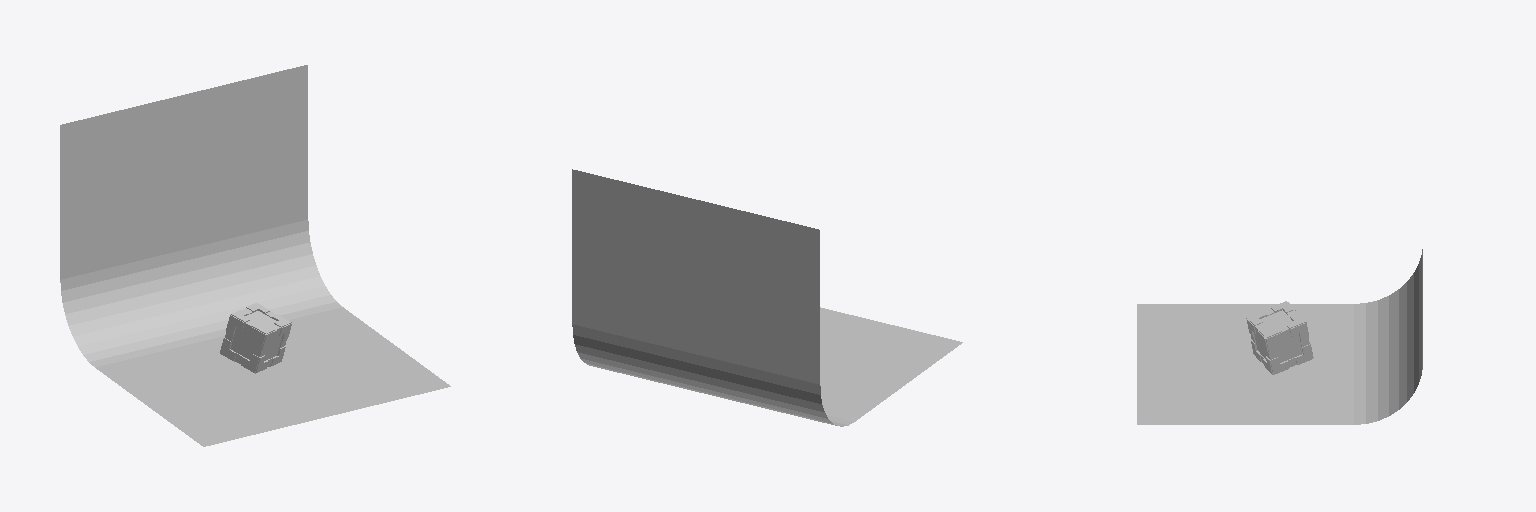
File: Energy Core Cube.obj
3 renders of one model, left to right at view 1: azimuth 30°, elevation 25°; view 2: azimuth 150°, elevation 25°; view 3: azimuth 270°, elevation 25°, orthographic.
Parts seen in each view (by area): view 1: Plane, Cube; view 2: Plane; view 3: Plane, Cube.
Boxes of the visible parts, box(x1,y1,x2,y2) form: Plane: box(60, 65, 450, 446); Cube: box(220, 303, 291, 373); Plane: box(572, 169, 962, 426); Plane: box(1137, 249, 1422, 424); Cube: box(1246, 301, 1313, 374).
Size of the model in its own units: 27.83 by 23.35 by 27.83.